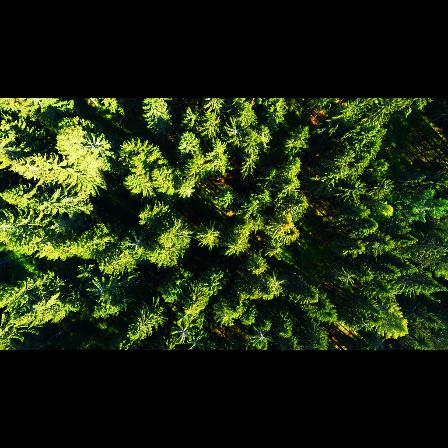Sick: (223, 117, 247, 145), (125, 230, 148, 258), (265, 273, 288, 298), (335, 266, 357, 290), (248, 328, 273, 346), (172, 323, 193, 341), (367, 335, 388, 350)
